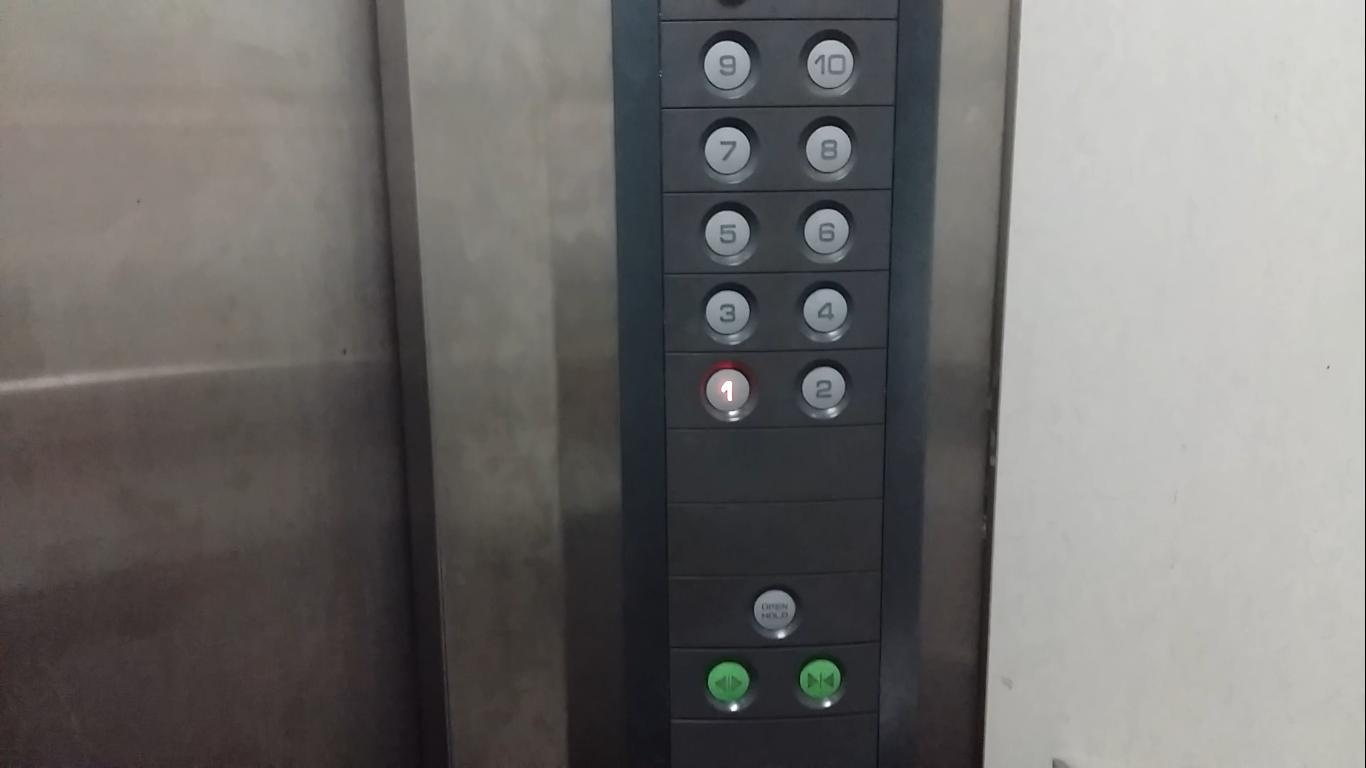1: (691, 355, 764, 428)
10: (791, 24, 867, 100)
2: (785, 353, 858, 426)
3: (692, 276, 768, 352)
4: (786, 273, 862, 349)
5: (691, 195, 767, 271)
6: (787, 193, 863, 269)
7: (691, 112, 767, 188)
8: (789, 111, 865, 187)
9: (690, 25, 766, 101)
close: (790, 649, 852, 713)
open: (698, 652, 760, 716)
text_open hold: (744, 578, 806, 642)
